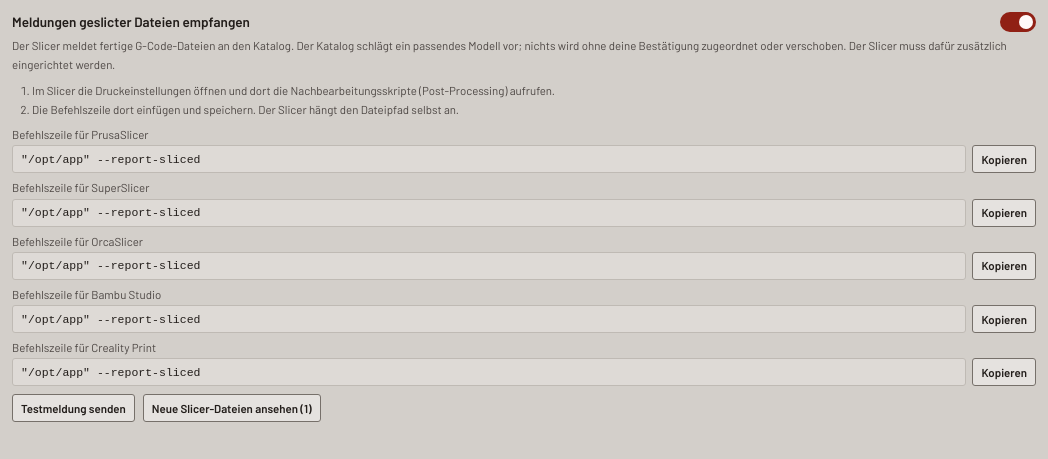
settings load and save states › keeps the confirmed setup and reports a failed save
This screenshot has width=1048, height=459.
Click the switch named "Meldungen geslicter Dateien empfangen" at (1018, 22), box [1000,12,1036,32]
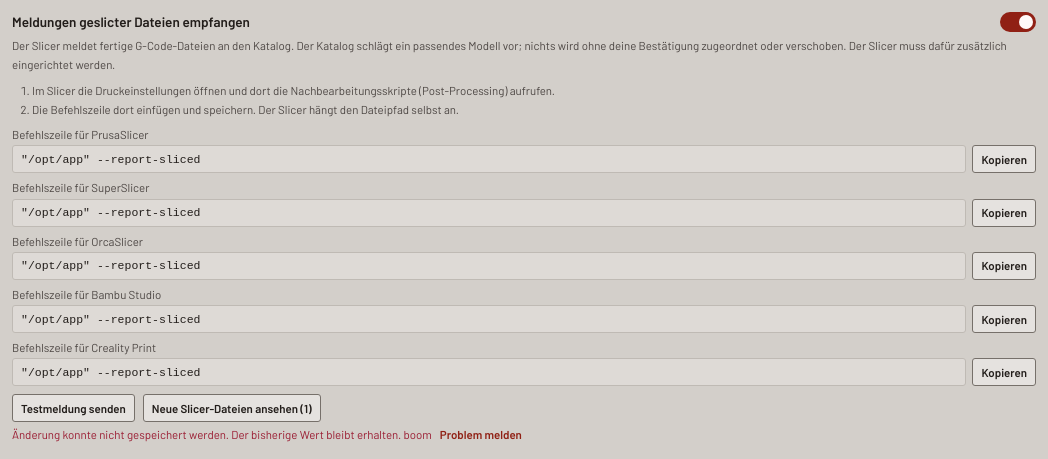
Expected: the message shows "Änderung konnte nicht gespeichert werden. Der bisherige Wert bleibt erhalten.", [12,427,401,441]
